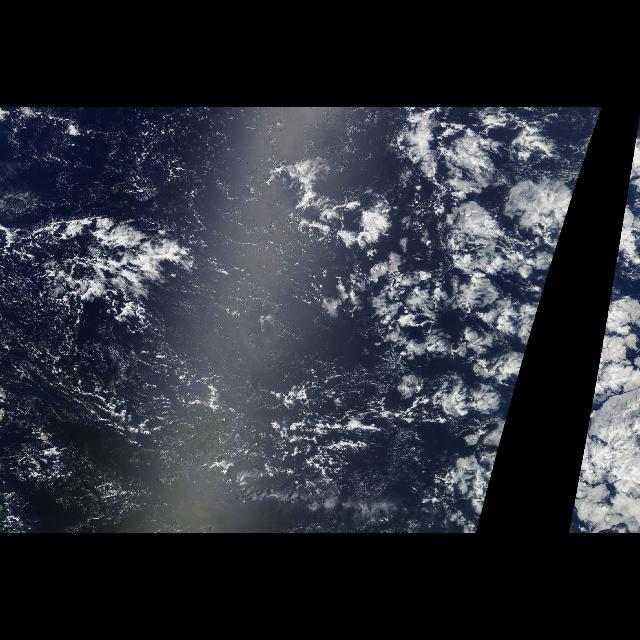Flower: (324, 119, 600, 353), (602, 124, 636, 354)
Gravel: (5, 176, 447, 494)
Sugar: (3, 327, 237, 516)
